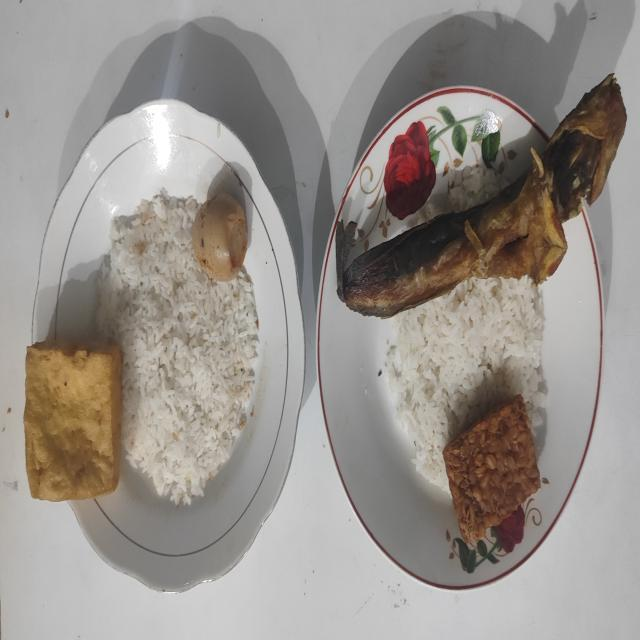nasi_putih: (99, 190, 260, 505), (384, 278, 546, 492), (416, 160, 508, 220)
tahu_goreng: (24, 342, 122, 502)
tempe_goreng: (442, 396, 540, 540)
